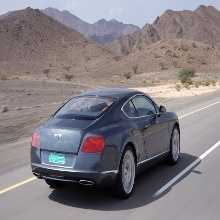no damage: (30, 88, 181, 199)
